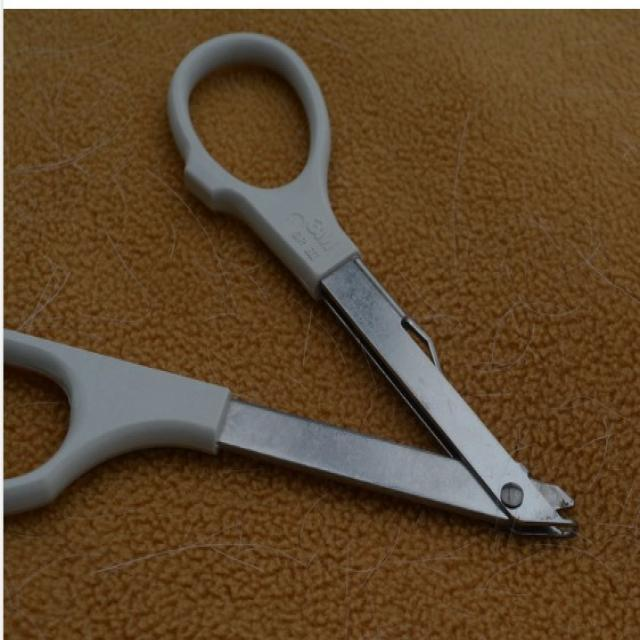Stapler Remover: (3, 26, 586, 544)
